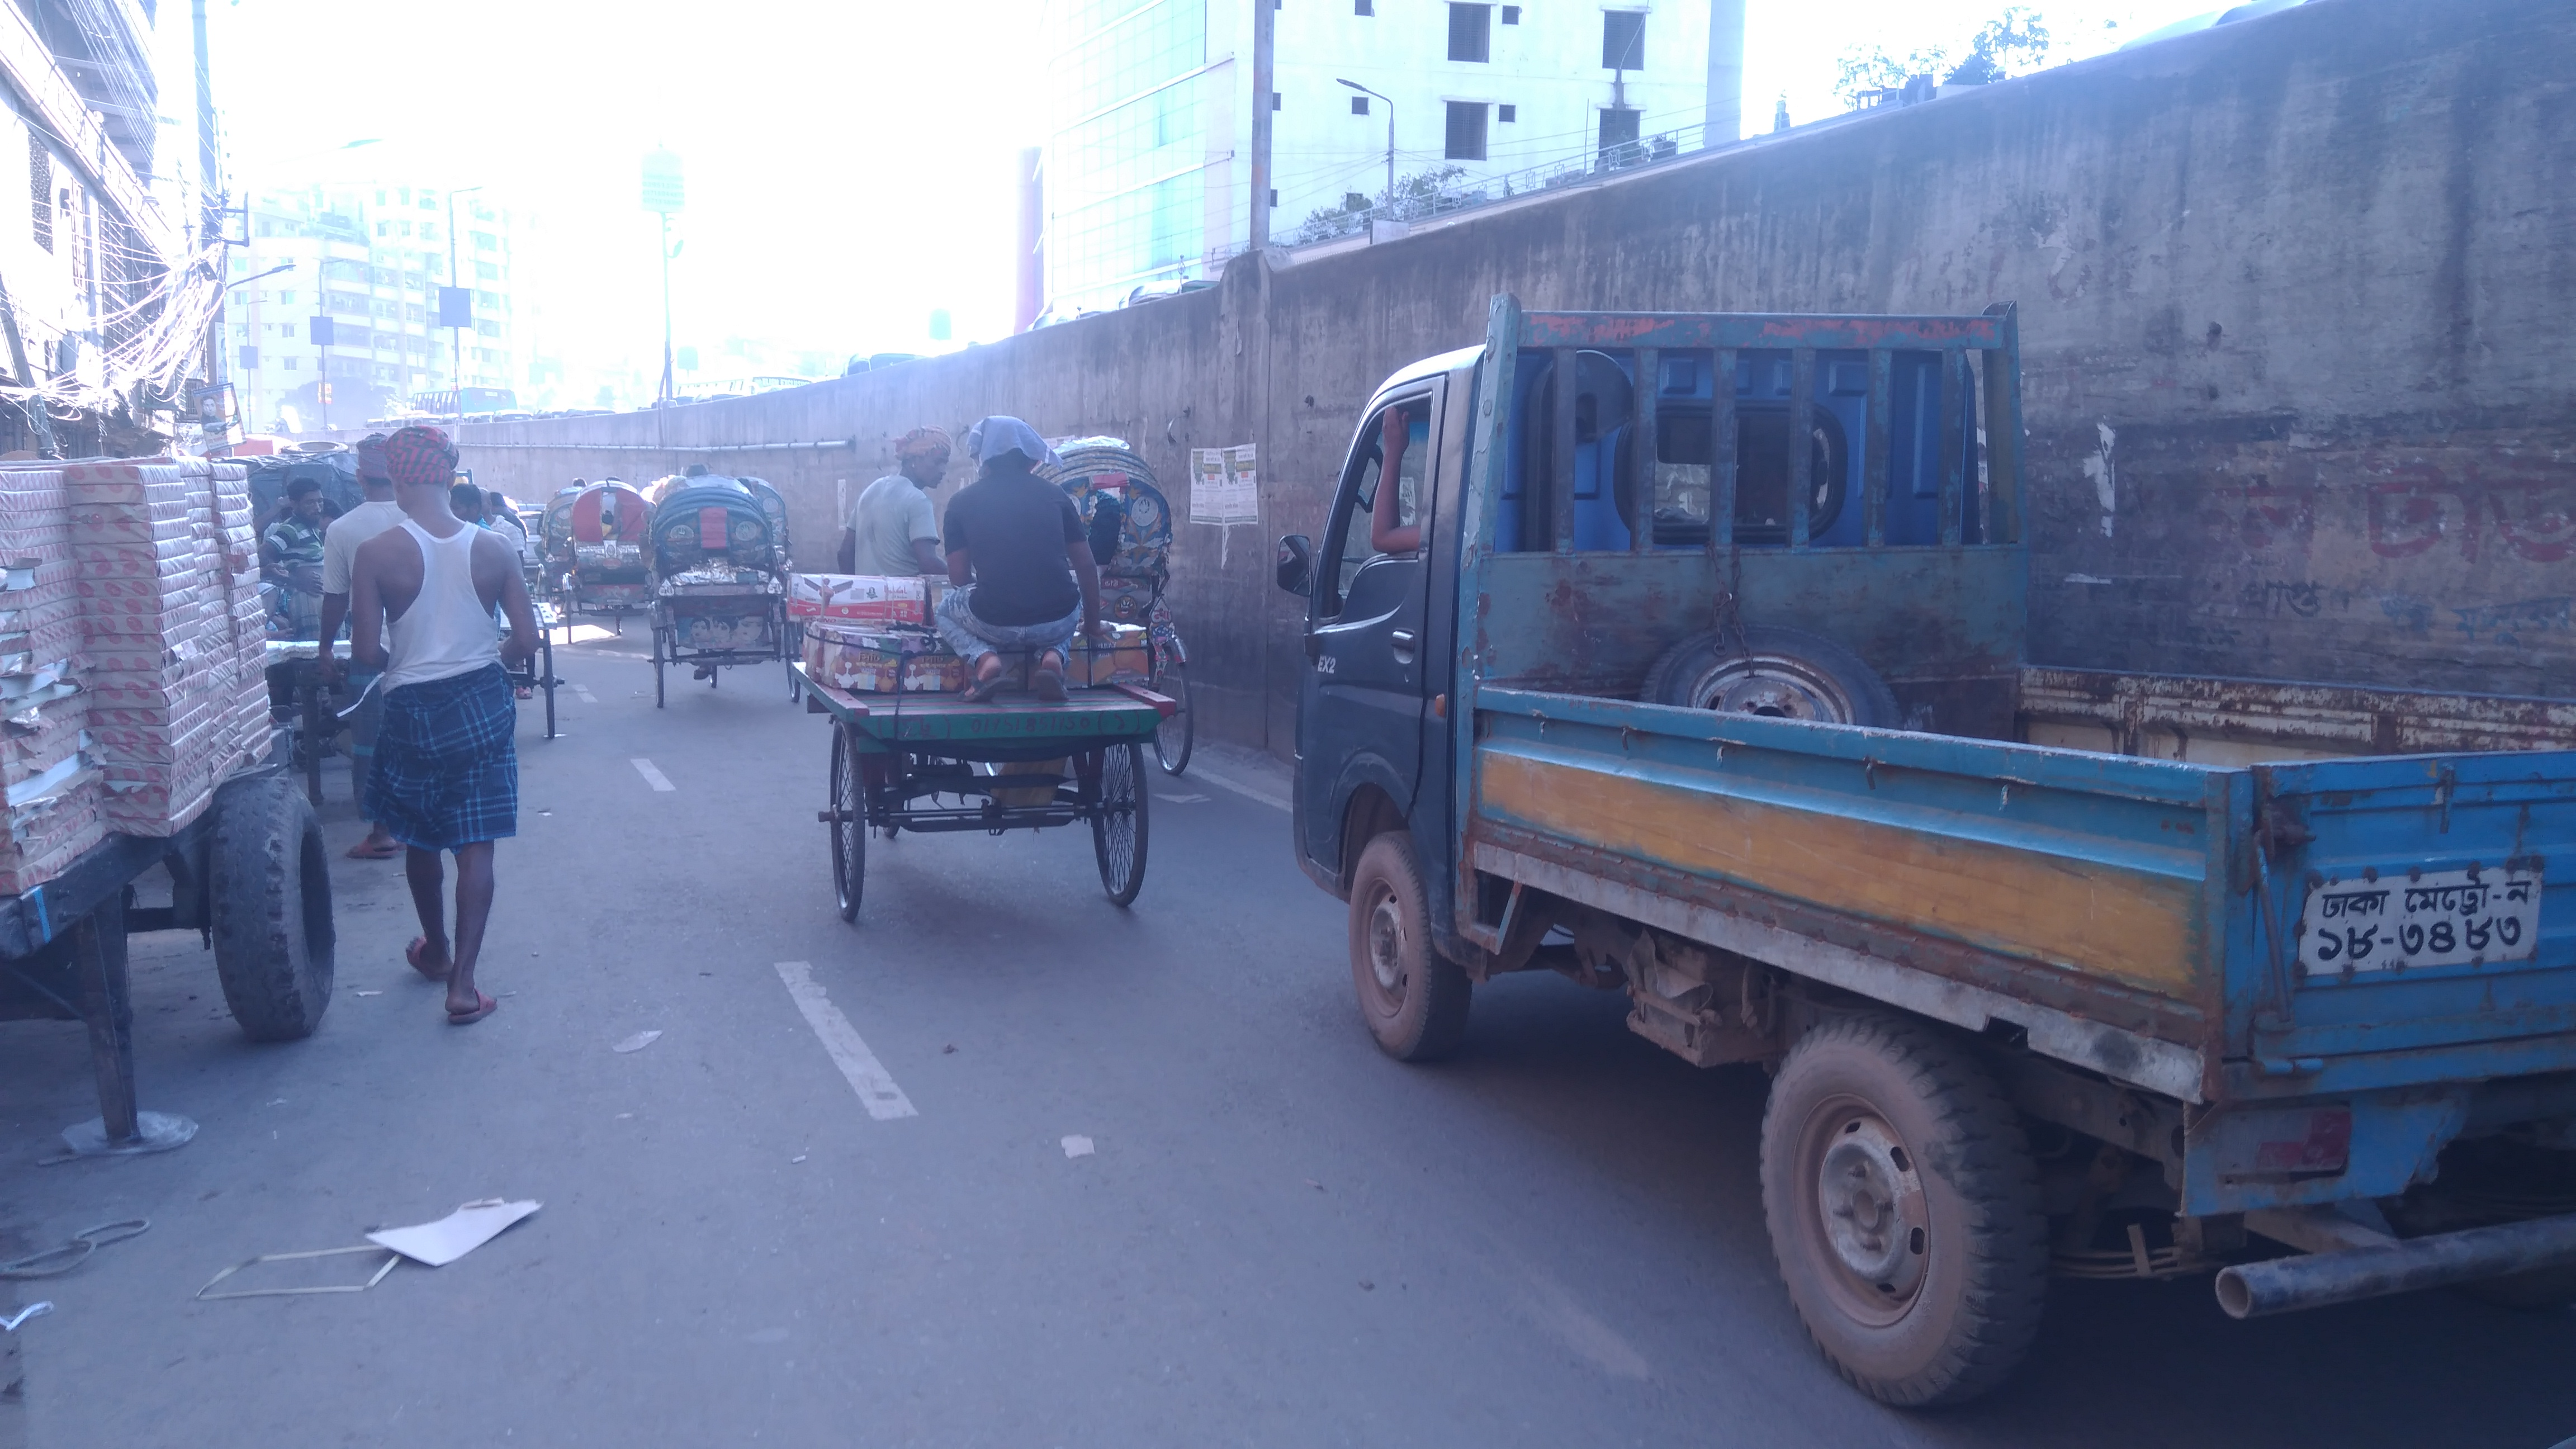rickshaw: (1016, 430, 1212, 766), (660, 460, 817, 717), (550, 478, 669, 642)
truck: (1286, 264, 2560, 1449)
van: (784, 656, 1175, 924)
wheelbarrow: (0, 713, 345, 1134)
